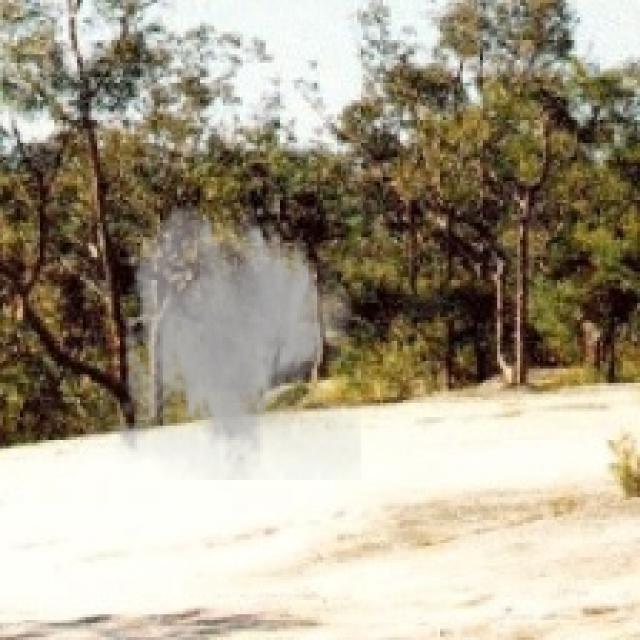Smoke: (106, 200, 360, 480)
